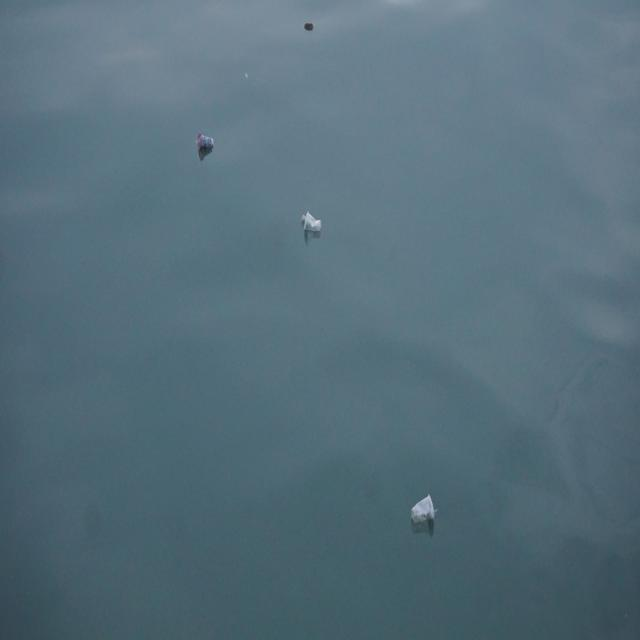Bungkus Minuman: (410, 487, 439, 534), (301, 206, 324, 238), (196, 128, 217, 160)
